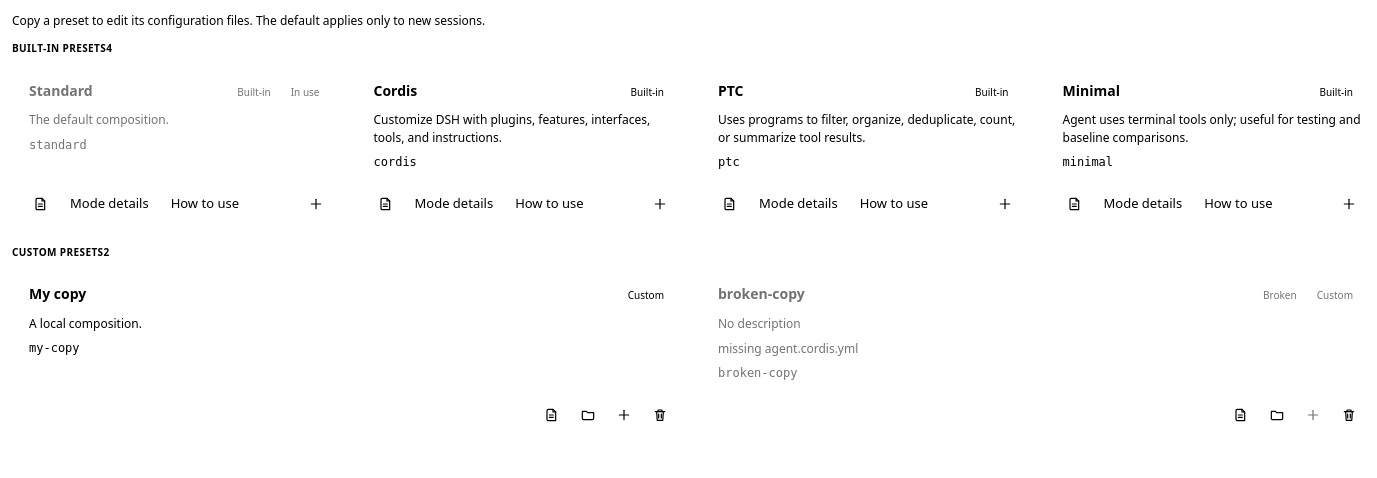
PresetManager default selection › surfaces a failed default write instead of pretending it succeeded
The width and height of the screenshot is (1377, 478).
Expected: the text "Built-in presets" is shown, [12, 41, 106, 55]
Click the button with aria-label "Set as default: Cordis".
click(523, 126)  # box [358, 65, 688, 188]
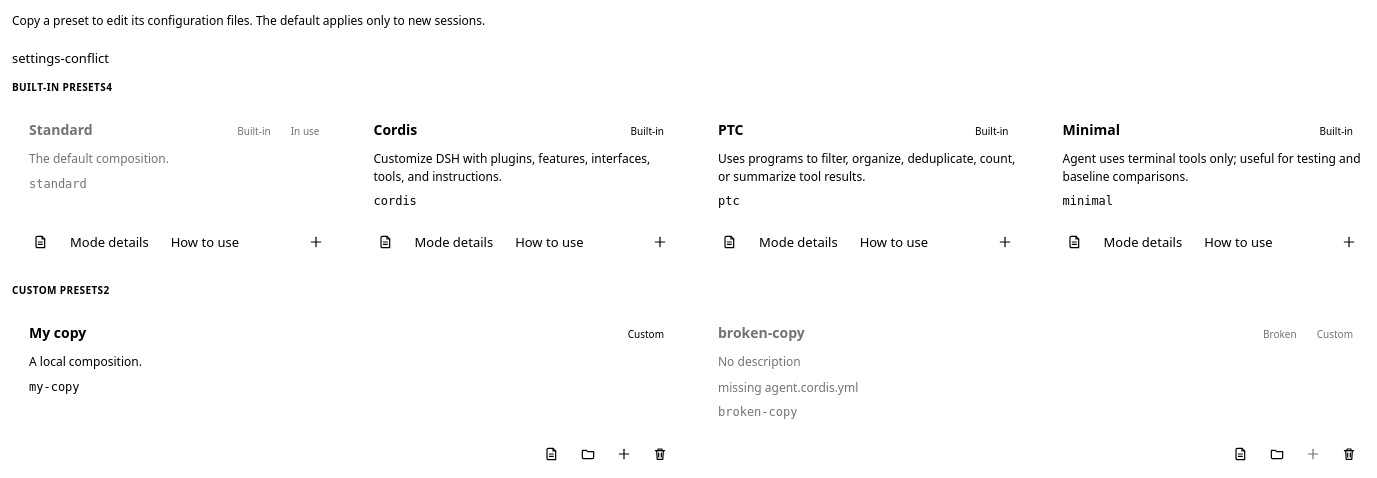
Expected: the button with aria-label "Set as default: Cordis" is shown, [358, 104, 688, 226]
Result: the text "settings-conflict" is shown at [12, 49, 109, 67]
